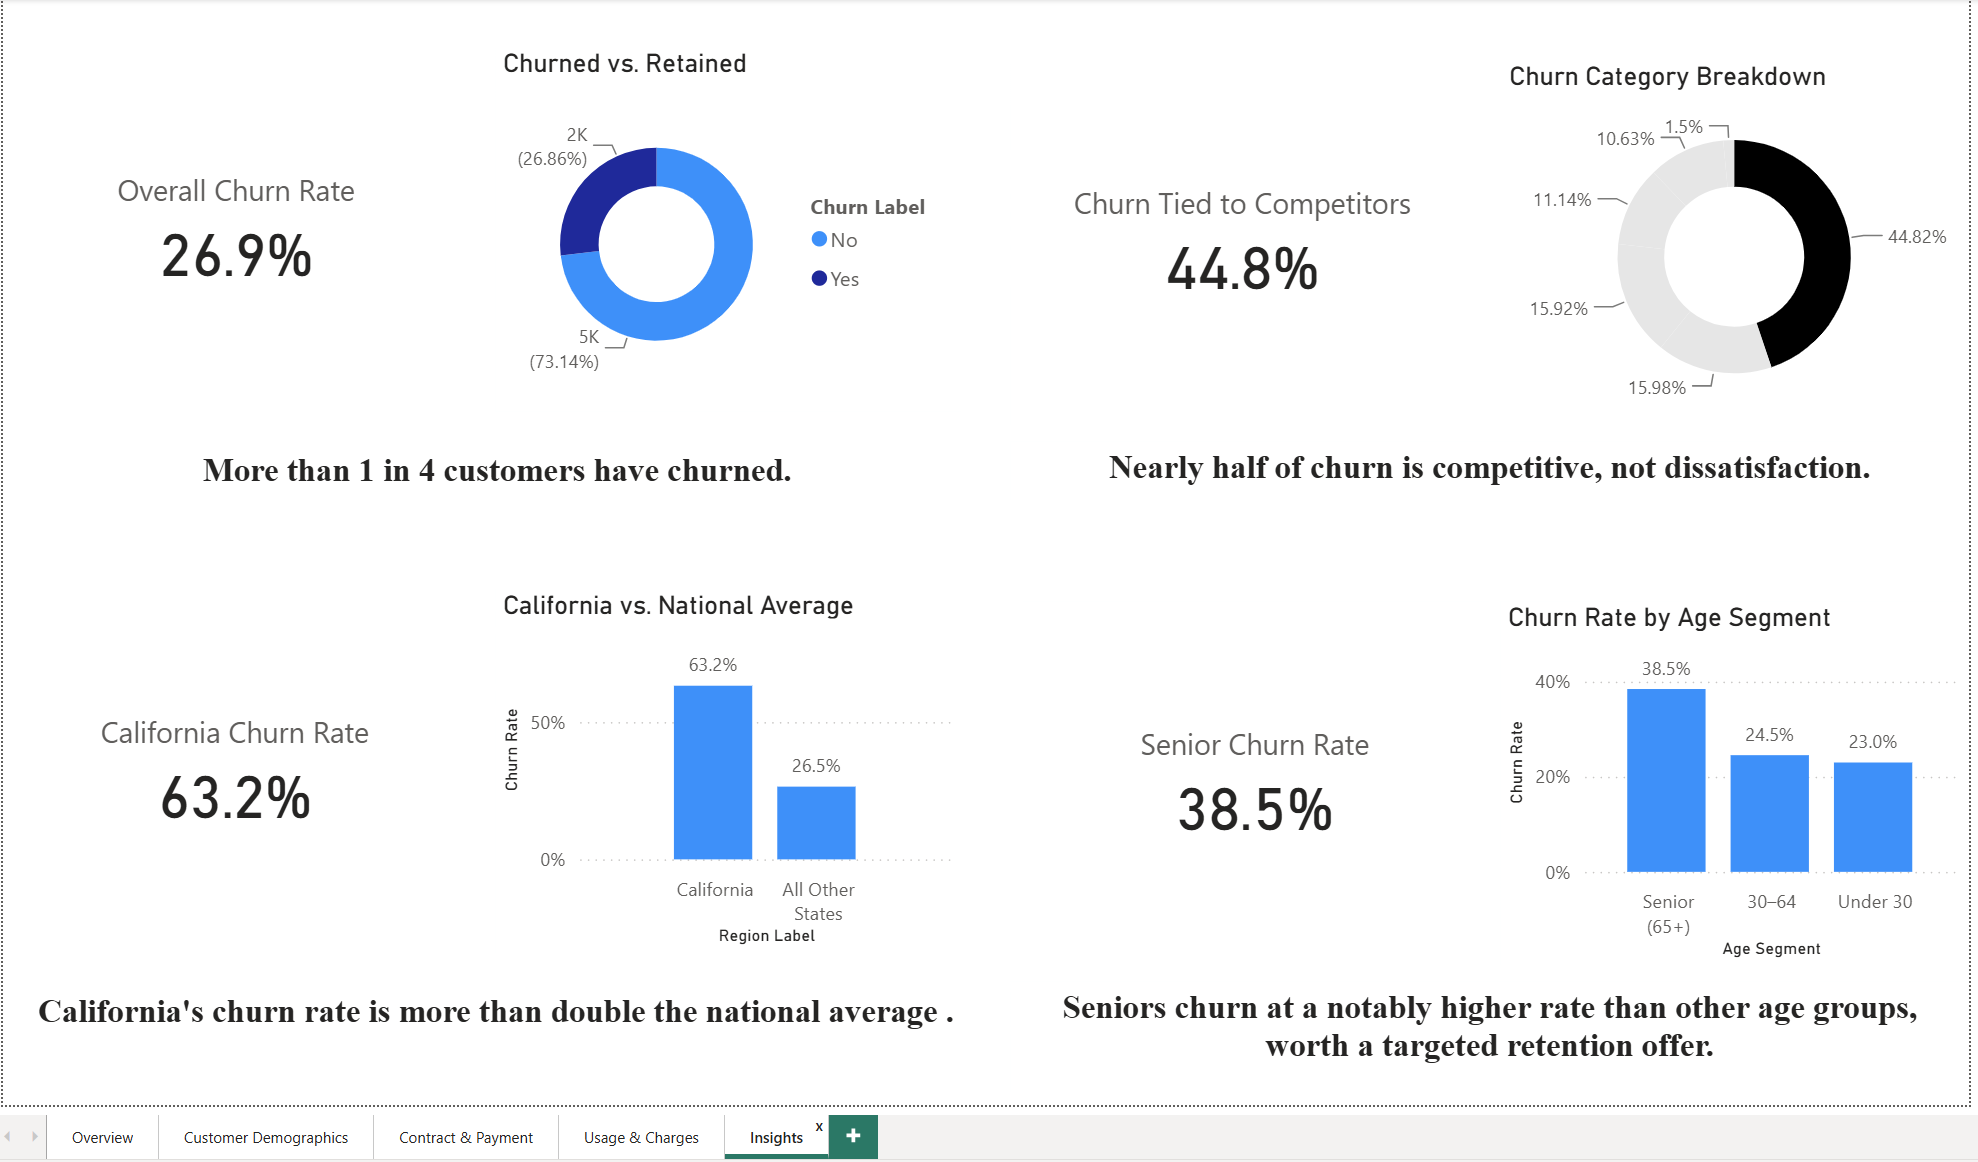

Layout of this report page (visuals, bound fields, positions):
{"tool":"powerbi","page":{"name":"Insights","canvas":[1280,720],"ordinal":4},"visuals":[{"type":"cardVisual","fields":{"Data":["Databel - Data.Churn Rate"]},"box":[0.7,32,302.8,237.4],"z":0},{"type":"donutChart","title":"Churned vs. Retained","fields":{"Category":["Databel - Data.Churn Label"],"Y":["Databel - Data.Number of Customers"]},"box":[321,32,303,237],"z":1000},{"type":"textbox","box":[0,280,624,40],"z":2000},{"type":"cardVisual","fields":{"Data":["Databel - Data.Competitor Churn %"]},"box":[655.7,40,302.8,237.4],"z":3000},{"type":"donutChart","title":"Churn Category Breakdown","fields":{"Category":["Databel - Data.Churn Category"],"Y":["Databel - Data.Number of Customers"]},"box":[976,40,303,237],"z":4000},{"type":"textbox","box":[10,290,624,40],"z":5000},{"type":"textbox","box":[656,288,624,40],"z":5001},{"type":"cardVisual","fields":{"Data":["Databel - Data.Churn Rate"]},"box":[0,383.9,302.8,237.4],"z":5002},{"type":"clusteredColumnChart","title":"California vs. National Average","fields":{"Category":["Databel - Data.Region Label"],"Y":["Databel - Data.Churn Rate"]},"box":[320.3,383.9,303,237],"z":5003},{"type":"textbox","box":[9.3,641.9,624,40],"z":5004},{"type":"cardVisual","fields":{"Data":["Databel - Data.Churn Rate"]},"box":[664,392.1,302.8,237.4],"z":5005},{"type":"clusteredColumnChart","title":"Churn Rate by Age Segment","fields":{"Category":["Databel - Data.Age Segment"],"Y":["Databel - Data.Churn Rate"]},"box":[975.3,392.1,303,237],"z":5006},{"type":"textbox","box":[656,640,624,72],"z":5007}]}

Visuals, with their boxes on the page's 1280x720 design canvas (x1, y1, x2, y2). These are canvas units, not pixel positions in the 1978x1162 screenshot, which may show the page scaled, cropped or inside an application window:
cardVisual - Databel - Data.Churn Rate: <region>1, 32, 304, 269</region>
"Churned vs. Retained" donutChart: <region>321, 32, 624, 269</region>
textbox: <region>0, 280, 624, 320</region>
cardVisual - Databel - Data.Competitor Churn %: <region>656, 40, 958, 277</region>
"Churn Category Breakdown" donutChart: <region>976, 40, 1279, 277</region>
textbox: <region>10, 290, 634, 330</region>
textbox: <region>656, 288, 1280, 328</region>
cardVisual - Databel - Data.Churn Rate: <region>0, 384, 303, 621</region>
"California vs. National Average" clusteredColumnChart: <region>320, 384, 623, 621</region>
textbox: <region>9, 642, 633, 682</region>
cardVisual - Databel - Data.Churn Rate: <region>664, 392, 967, 630</region>
"Churn Rate by Age Segment" clusteredColumnChart: <region>975, 392, 1278, 629</region>
textbox: <region>656, 640, 1280, 712</region>
